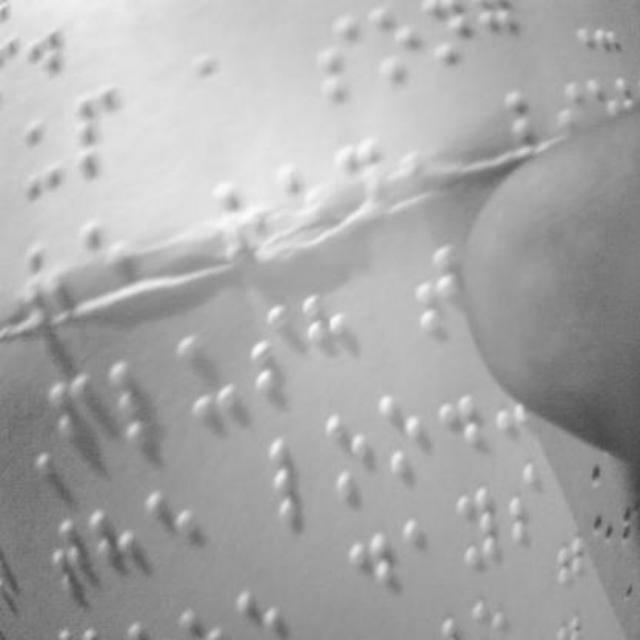braiile: (412, 234, 472, 348), (244, 294, 296, 402), (16, 99, 72, 197), (146, 484, 202, 580), (178, 328, 234, 422), (75, 80, 128, 178), (42, 513, 96, 609), (375, 386, 431, 478), (111, 358, 169, 446), (316, 10, 368, 108), (345, 522, 395, 622), (320, 404, 372, 500), (268, 434, 322, 526), (49, 370, 99, 468), (304, 288, 352, 388), (92, 496, 144, 588), (441, 392, 493, 478), (503, 456, 547, 554), (400, 509, 448, 593), (456, 482, 499, 574)
